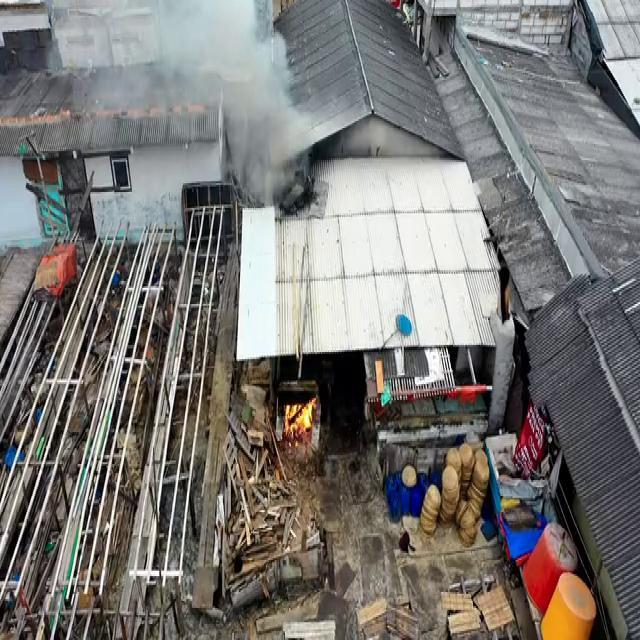smoke: (200, 0, 286, 130), (228, 110, 309, 208), (144, 0, 211, 105)
